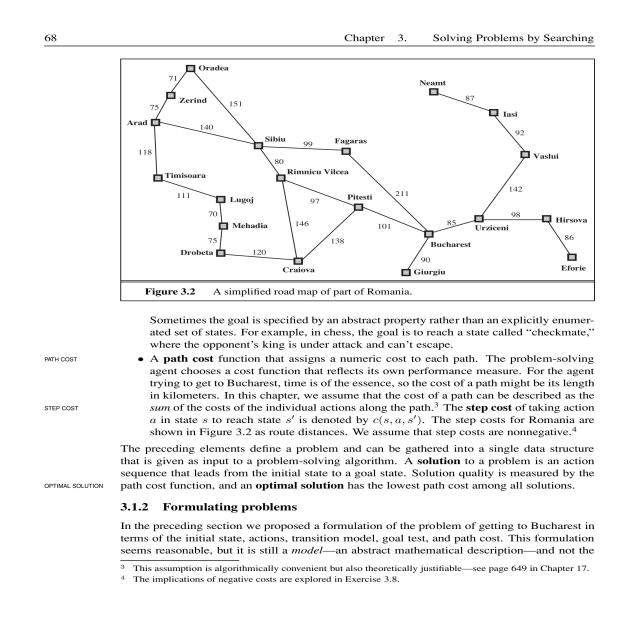diagram: (115, 62, 640, 309)
